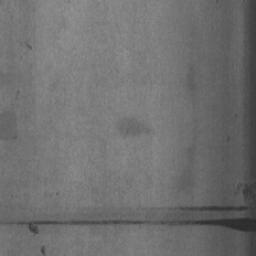Crease: (0, 217, 256, 234), (157, 206, 248, 211)
